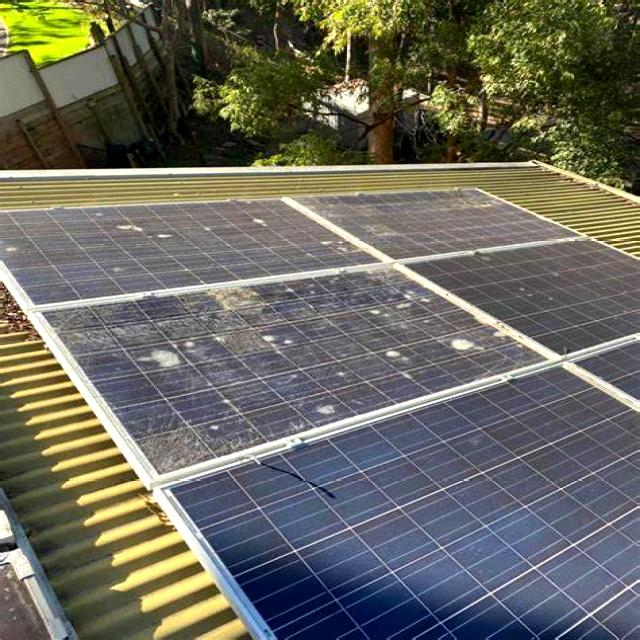bird: (92, 208, 216, 250), (331, 286, 438, 328), (194, 274, 276, 314), (134, 326, 193, 378), (313, 225, 386, 262), (164, 424, 208, 468), (444, 314, 478, 370), (224, 197, 283, 229), (358, 340, 409, 366), (295, 396, 342, 424), (256, 332, 300, 361), (0, 228, 31, 264)
